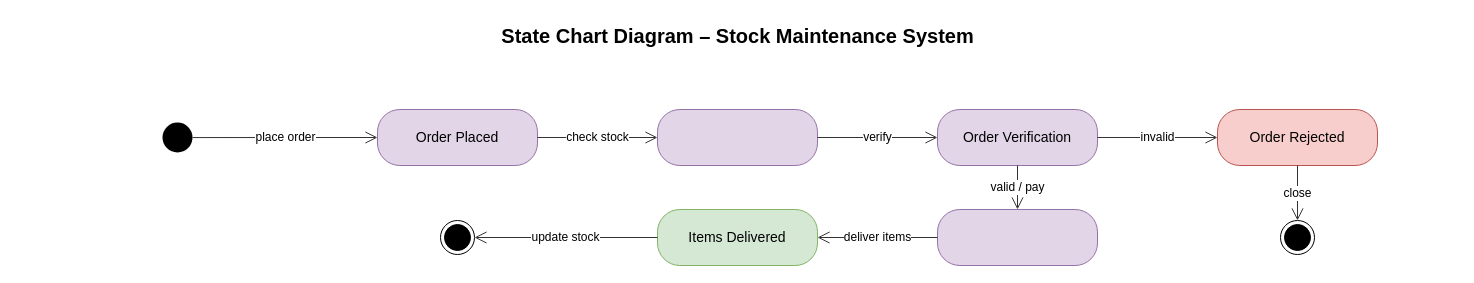
This 1474x283 diagram has some shape labels left out. The shapes that lost their labels are listed below. From the top down, each one's centre as x and y in pixels, then its label:
(737,137): Checking Stock
(1017,237): Payment Done
